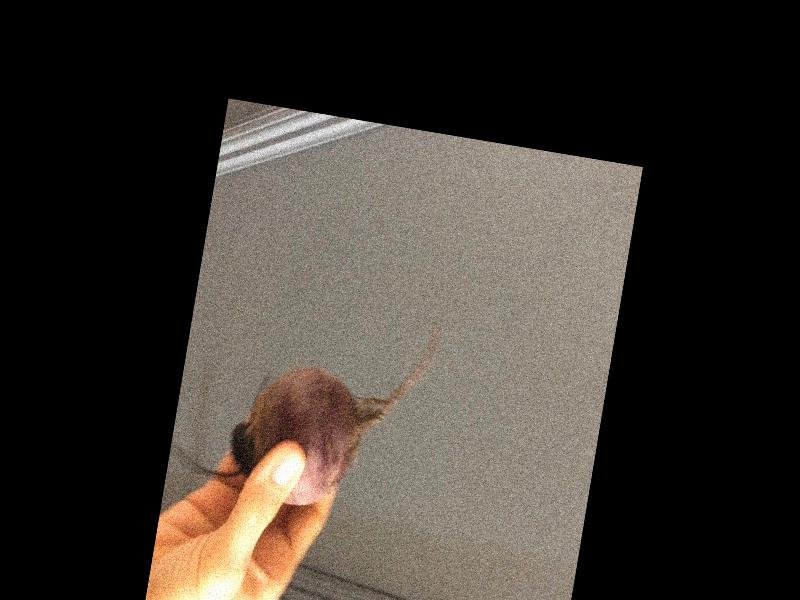Beet: (164, 276, 442, 523)
